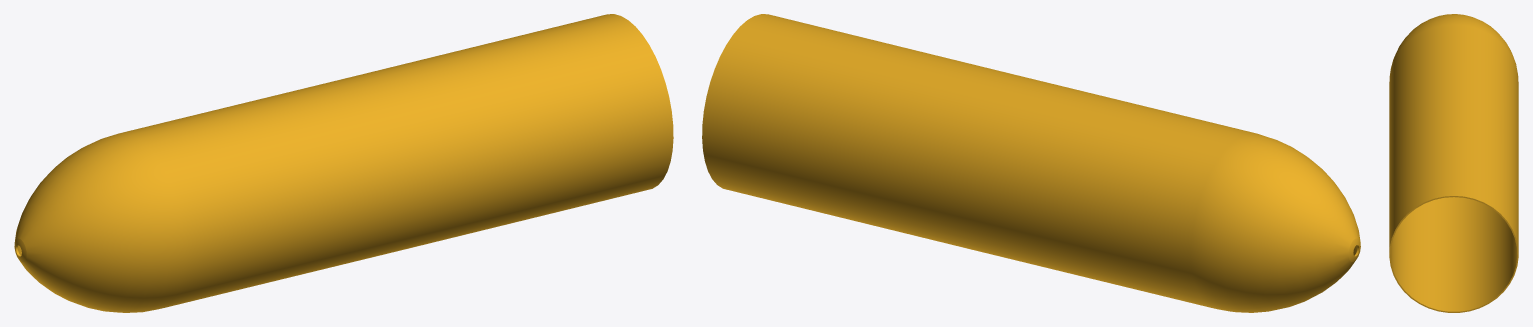
File: forward_fairing_visual.obj
The picture shows the model from 3 angles, left to right: view 1: azimuth 30°, elevation 25°; view 2: azimuth 150°, elevation 25°; view 3: azimuth 270°, elevation 25°; orthographic projection. The views are drawn at different scales.
Visible parts, largest first — view 1: forward fairing; view 2: forward fairing; view 3: forward fairing.
Part boxes in pixels (x1,y1,x2,y2): forward fairing: [14, 14, 673, 312]; forward fairing: [702, 14, 1360, 312]; forward fairing: [1389, 14, 1518, 312].
Size of the model in its own units: 80.94 by 20.76 by 20.74.
